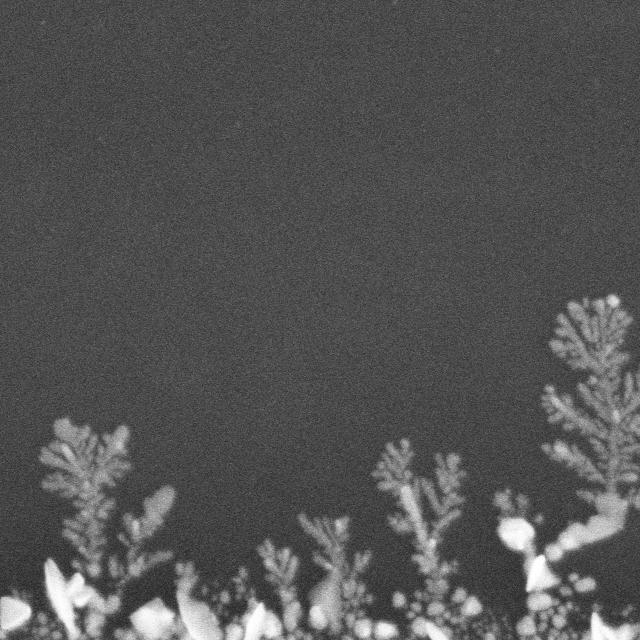Dendrite: (372, 439, 524, 640), (541, 294, 640, 560), (493, 488, 595, 640), (40, 418, 130, 578), (299, 514, 371, 629), (109, 485, 173, 592), (45, 559, 120, 640), (258, 540, 306, 640), (257, 539, 302, 631), (175, 561, 222, 640), (299, 514, 353, 578), (115, 597, 179, 640), (219, 565, 259, 620), (310, 571, 342, 628), (241, 600, 285, 640), (591, 609, 640, 640), (0, 588, 32, 635), (27, 605, 69, 640), (0, 595, 31, 632), (373, 620, 398, 640), (353, 619, 369, 638)
